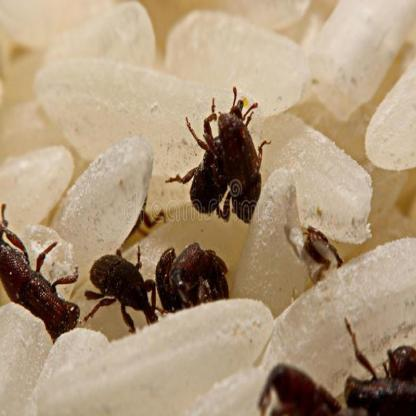rice-bug: (0, 215, 77, 332), (188, 97, 261, 219), (89, 246, 156, 338), (348, 328, 412, 416), (158, 243, 231, 318), (259, 353, 343, 416), (302, 223, 344, 278)
